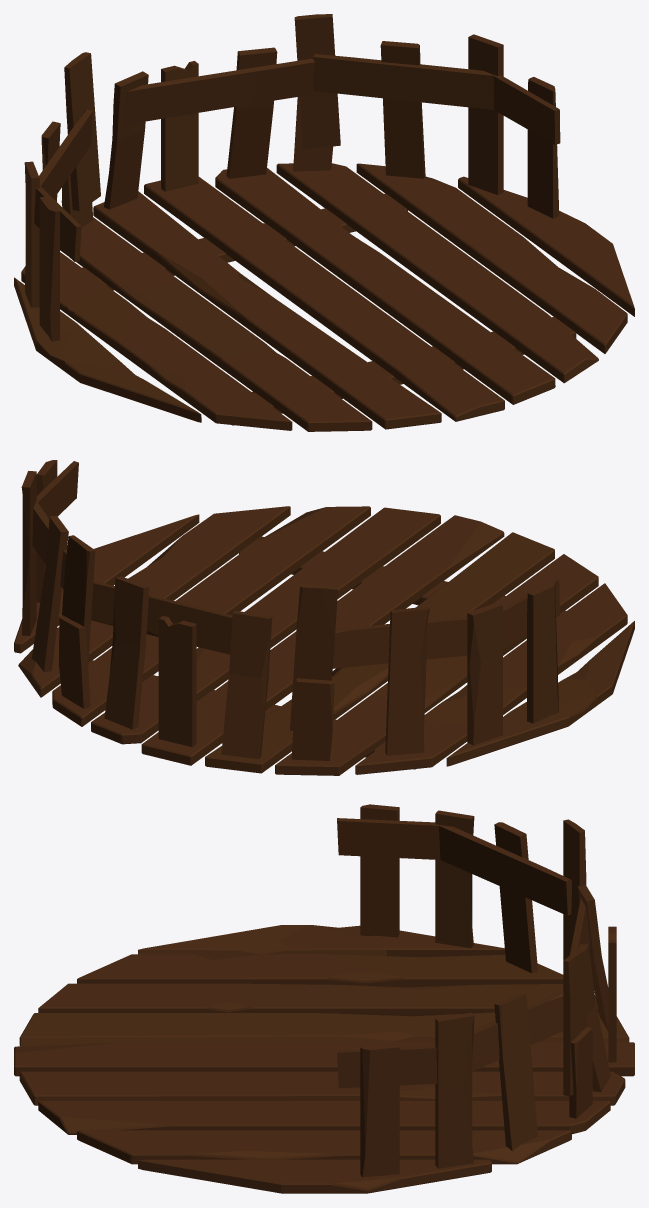
File: Platform-M01C.fbx
The picture shows the model from 3 angles, top to bottom: view 1: azimuth 30°, elevation 25°; view 2: azimuth 150°, elevation 25°; view 3: azimuth 270°, elevation 25°; orthographic projection.
Visible parts, largest first — view 1: Cube.002; view 2: Cube.002; view 3: Cube.002.
Part boxes in pixels (x1,y1,x2,y2): Cube.002: [14, 14, 634, 431]; Cube.002: [14, 460, 634, 775]; Cube.002: [14, 804, 634, 1193].
Size of the model in its own units: 241 by 81.9 by 244.
